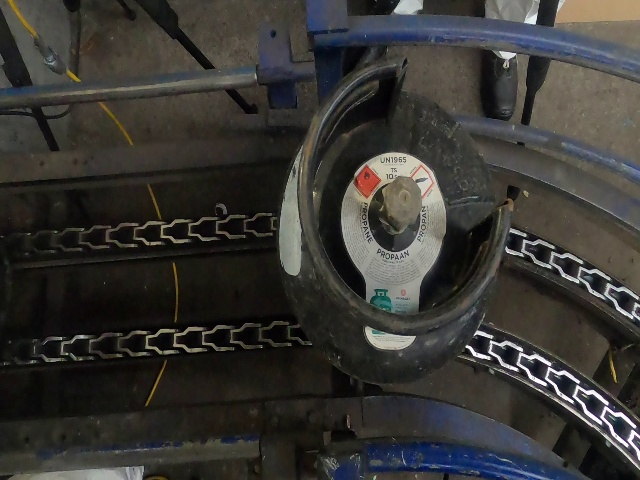gas_bottle: (2, 2, 640, 480)
